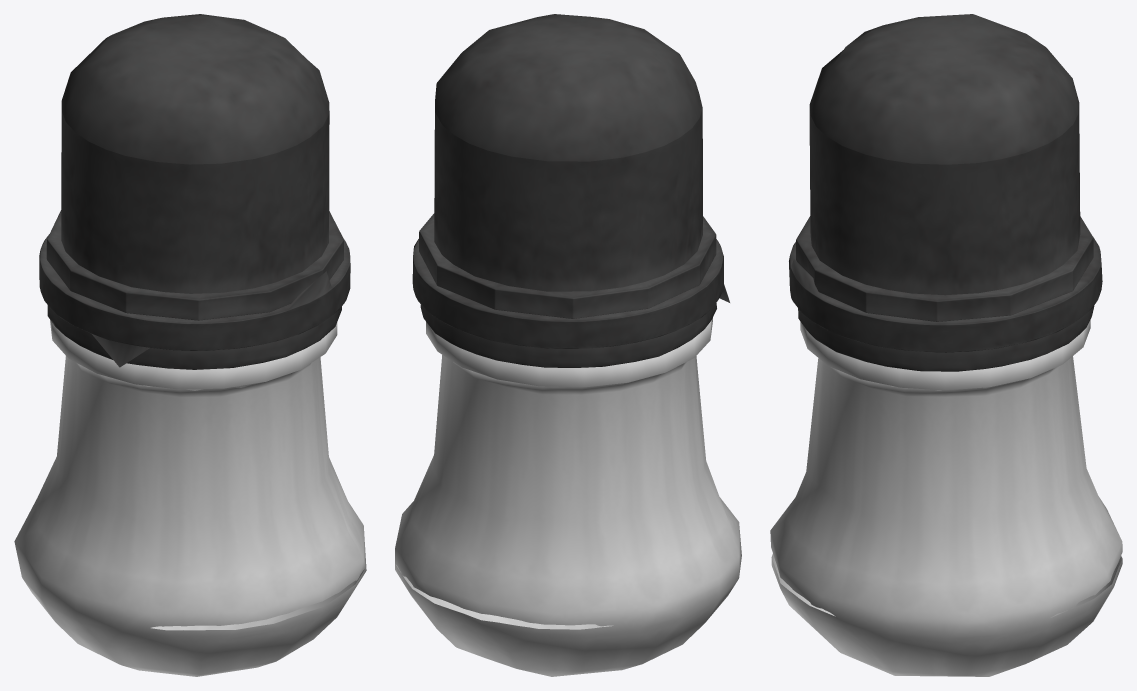
The model's file is SM_hanginglight_nowire_01b.fbx.
3 views of the same model, side by side, from view 1: azimuth 30°, elevation 25°; view 2: azimuth 150°, elevation 25°; view 3: azimuth 270°, elevation 25° (orthographic).
Visible parts, largest first — view 1: SM_hanginglight_nowire_01b_LOD0; view 2: SM_hanginglight_nowire_01b_LOD0; view 3: SM_hanginglight_nowire_01b_LOD0.
Boxes of the visible parts, bbox=[...] form: SM_hanginglight_nowire_01b_LOD0: bbox=[14, 14, 366, 676]; SM_hanginglight_nowire_01b_LOD0: bbox=[395, 14, 741, 676]; SM_hanginglight_nowire_01b_LOD0: bbox=[770, 14, 1122, 676].
Size of the model in its own units: 11.08 by 11.09 by 21.19.
